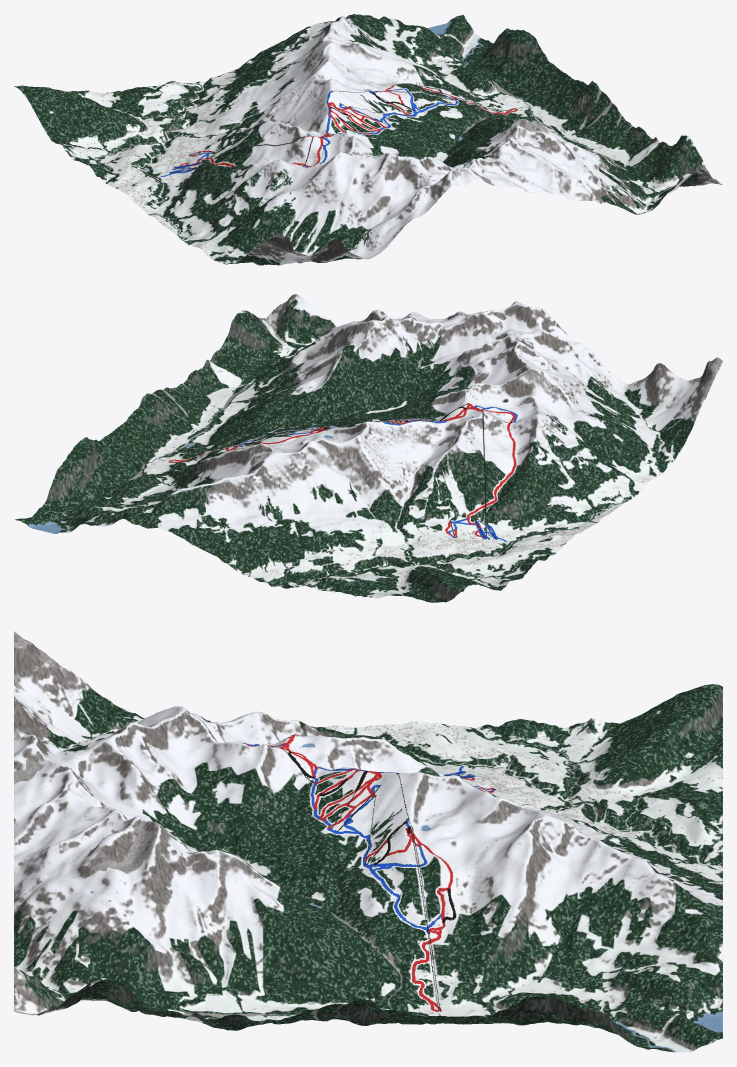
The picture shows the model from 3 angles, top to bottom: view 1: azimuth 30°, elevation 25°; view 2: azimuth 150°, elevation 25°; view 3: azimuth 270°, elevation 25°; orthographic projection. The views are drawn at different scales.
Visible parts, largest first — view 1: A2_Fellhorn_Kanzelwand.glb; view 2: A2_Fellhorn_Kanzelwand.glb; view 3: A2_Fellhorn_Kanzelwand.glb.
Boxes of the visible parts, box(x1,y1,x2,y2) form: A2_Fellhorn_Kanzelwand.glb: box(14, 14, 722, 265); A2_Fellhorn_Kanzelwand.glb: box(15, 294, 722, 602); A2_Fellhorn_Kanzelwand.glb: box(14, 631, 722, 1052).
Size of the model in its own units: 8050 by 1784 by 8050.
1 material, 1 textured.
